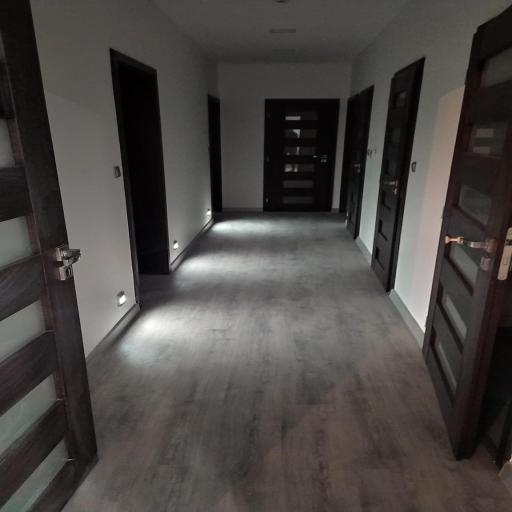child: (0, 0, 512, 512)
corridor: (110, 49, 170, 294), (372, 58, 424, 292), (263, 99, 339, 212)
